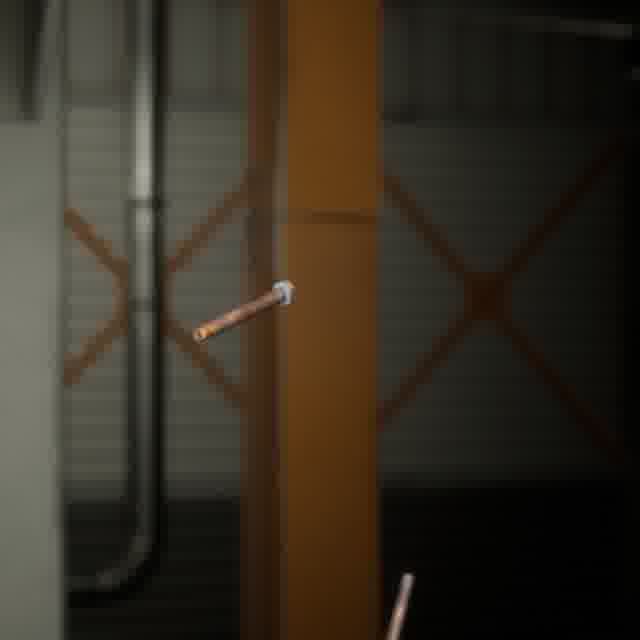bolt: (188, 275, 300, 346), (381, 568, 419, 640)
